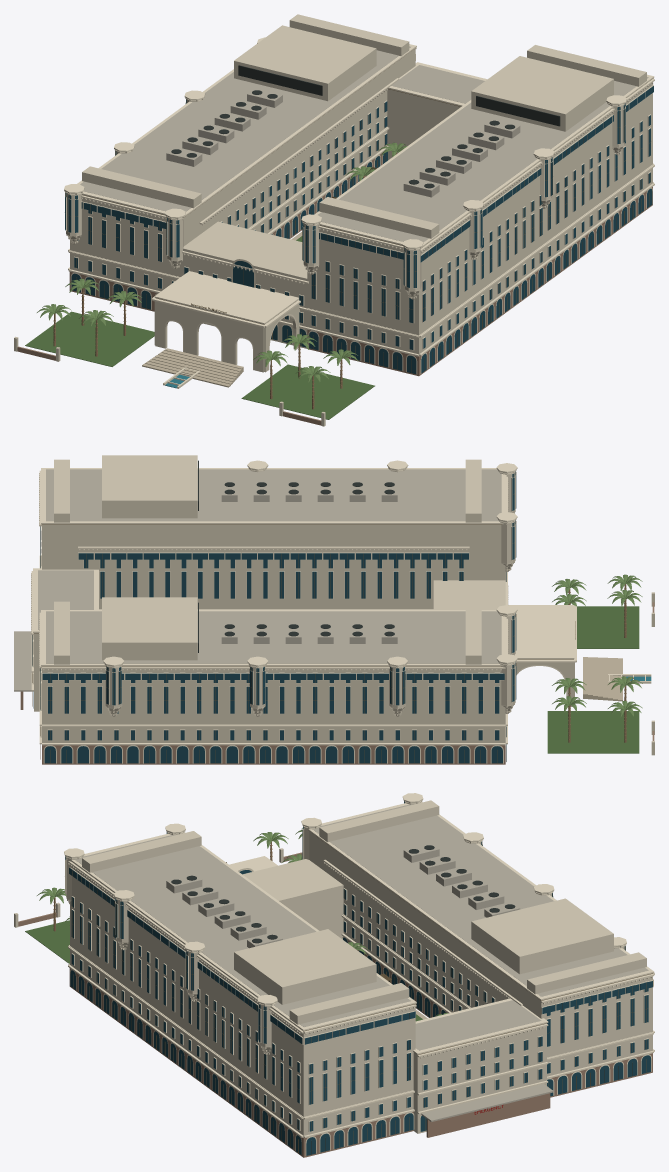
File: IMC_EXISTING_HOSPITAL.glb
3 views of the same model, one above another, from view 1: azimuth 30°, elevation 25°; view 2: azimuth 150°, elevation 25°; view 3: azimuth 270°, elevation 25° (orthographic).
Parts seen in each view (by area): view 1: Hospital limestone, Hospital roof, Hospital trim, Hospital glass, Hospital grass, Hospital sandstone, Hospital bronze, Hospital dark, Hospital palm, Hospital paving, Hospital trunk; view 2: Hospital limestone, Hospital roof, Hospital trim, Hospital glass, Hospital grass, Hospital sandstone, Hospital bronze, Hospital palm, Hospital paving, Hospital dark; view 3: Hospital limestone, Hospital roof, Hospital trim, Hospital glass, Hospital sandstone, Hospital bronze, Hospital dark, Hospital grass, Hospital palm.
Part boxes in pixels (bbox=[...]): Hospital limestone: bbox=[14, 14, 652, 426]; Hospital roof: bbox=[80, 46, 648, 242]; Hospital trim: bbox=[64, 37, 654, 388]; Hospital glass: bbox=[65, 86, 653, 373]; Hospital grass: bbox=[25, 236, 374, 419]; Hospital sandstone: bbox=[17, 153, 652, 425]; Hospital bronze: bbox=[65, 54, 651, 372]; Hospital dark: bbox=[171, 65, 560, 188]; Hospital palm: bbox=[37, 142, 407, 382]; Hospital paving: bbox=[142, 231, 302, 387]; Hospital trunk: bbox=[53, 152, 396, 409]; Hospital limestone: bbox=[34, 455, 654, 755]; Hospital roof: bbox=[14, 469, 501, 691]; Hospital trim: bbox=[31, 460, 651, 763]; Hospital glass: bbox=[32, 471, 516, 763]; Hospital grass: bbox=[547, 606, 639, 753]; Hospital sandstone: bbox=[20, 602, 654, 764]; Hospital bronze: bbox=[32, 472, 573, 763]; Hospital palm: bbox=[552, 574, 642, 717]; Hospital paving: bbox=[583, 657, 622, 701]; Hospital dark: bbox=[198, 460, 394, 652]; Hospital limestone: bbox=[14, 800, 652, 1137]; Hospital roof: bbox=[75, 804, 648, 1121]; Hospital trim: bbox=[64, 793, 654, 1155]; Hospital glass: bbox=[65, 801, 652, 1155]; Hospital sandstone: bbox=[18, 852, 652, 1157]; Hospital bronze: bbox=[72, 833, 652, 1154]; Hospital dark: bbox=[171, 845, 515, 943]; Hospital grass: bbox=[25, 920, 422, 1021]; Hospital palm: bbox=[37, 828, 447, 1016].
Bounding box in the file's own units: 181 × 40.05 × 159.
